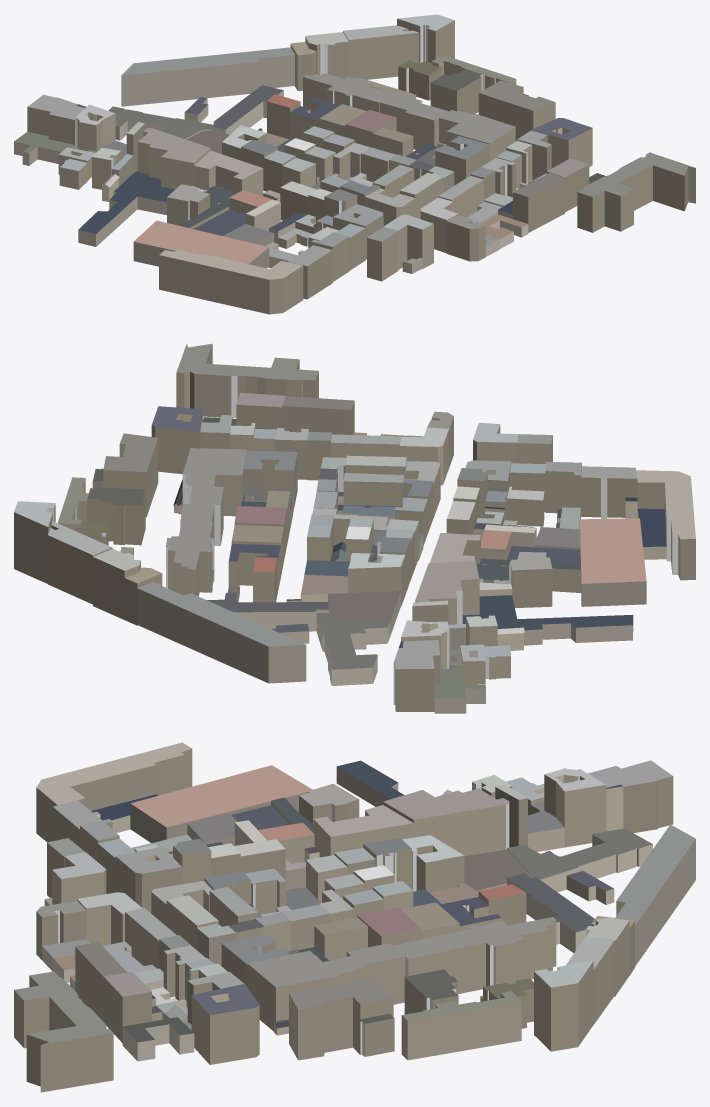
3 renders of one model, top to bottom at view 1: azimuth 30°, elevation 25°; view 2: azimuth 150°, elevation 25°; view 3: azimuth 270°, elevation 25°, orthographic. The views are drawn at different scales.
Visible parts, largest first — view 1: tuile; view 2: tuile; view 3: tuile.
Boxes of the visible parts, bbox=[...] form: tuile: bbox=[14, 14, 695, 314]; tuile: bbox=[14, 343, 695, 713]; tuile: bbox=[14, 742, 695, 1092].
Size of the model in its own units: 317 by 37.73 by 283.
